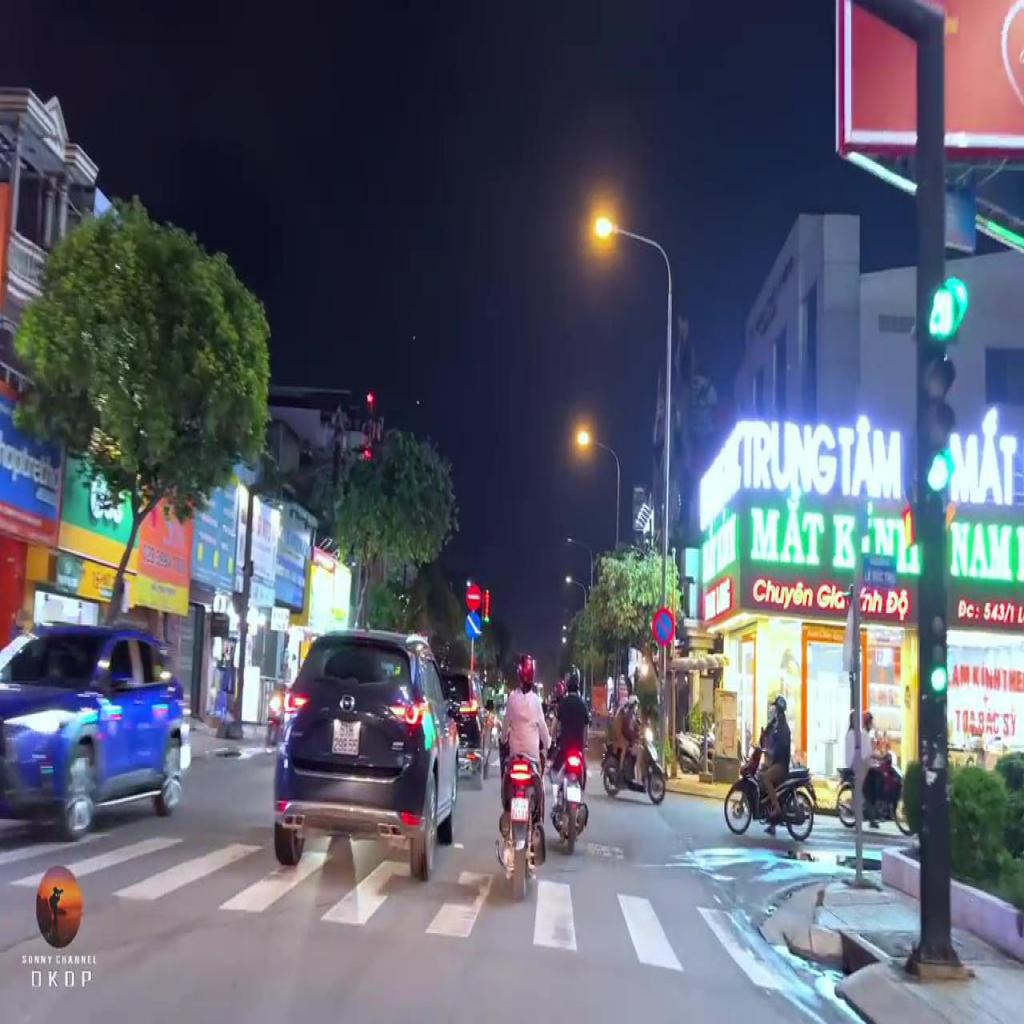cam_dung_xe_va_do_xe: (652, 606, 674, 648)
cam_xe_di_nguoc_chieu: (465, 583, 483, 613)
huong_phai_di_vuot_chuong_ngai_vat_phai: (464, 612, 482, 640)
